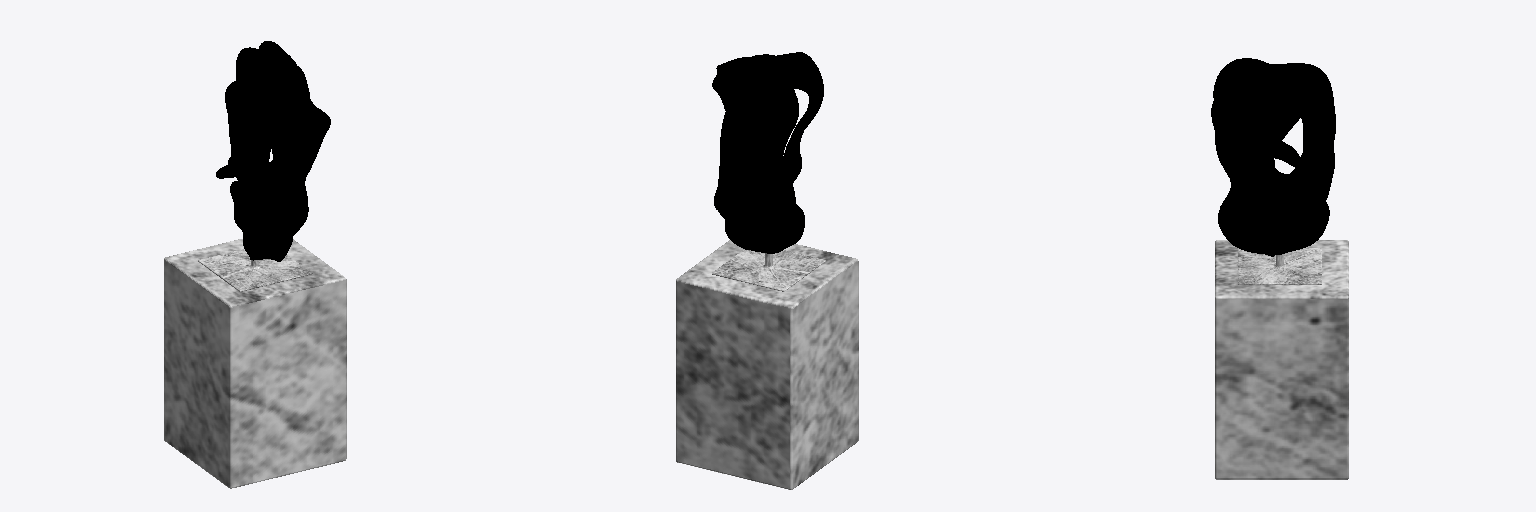
3 views of the same model, side by side, from view 1: azimuth 30°, elevation 25°; view 2: azimuth 150°, elevation 25°; view 3: azimuth 270°, elevation 25° (orthographic).
Parts seen in each view (by area): view 1: group2 pCube2, Escultura_01Escultura_01_002_DVA:polySurface1 group2, group2 pCube9; view 2: group2 pCube2, Escultura_01Escultura_01_002_DVA:polySurface1 group2, group2 pCube9; view 3: group2 pCube2, Escultura_01Escultura_01_002_DVA:polySurface1 group2, group2 pCube9.
Part boxes in pixels (x1,y1,x2,y2): group2 pCube2: (164,239,346,488); Escultura_01Escultura_01_002_DVA:polySurface1 group2: (216,41,330,261); group2 pCube9: (198,249,312,291); group2 pCube2: (676,240,858,489); Escultura_01Escultura_01_002_DVA:polySurface1 group2: (712,52,823,253); group2 pCube9: (712,249,825,291); group2 pCube2: (1215,240,1348,479); Escultura_01Escultura_01_002_DVA:polySurface1 group2: (1211,58,1335,256); group2 pCube9: (1238,248,1321,284).
Bounding box in the file's own units: 2.81 × 8.94 × 2.86.
2 materials, 1 textured.